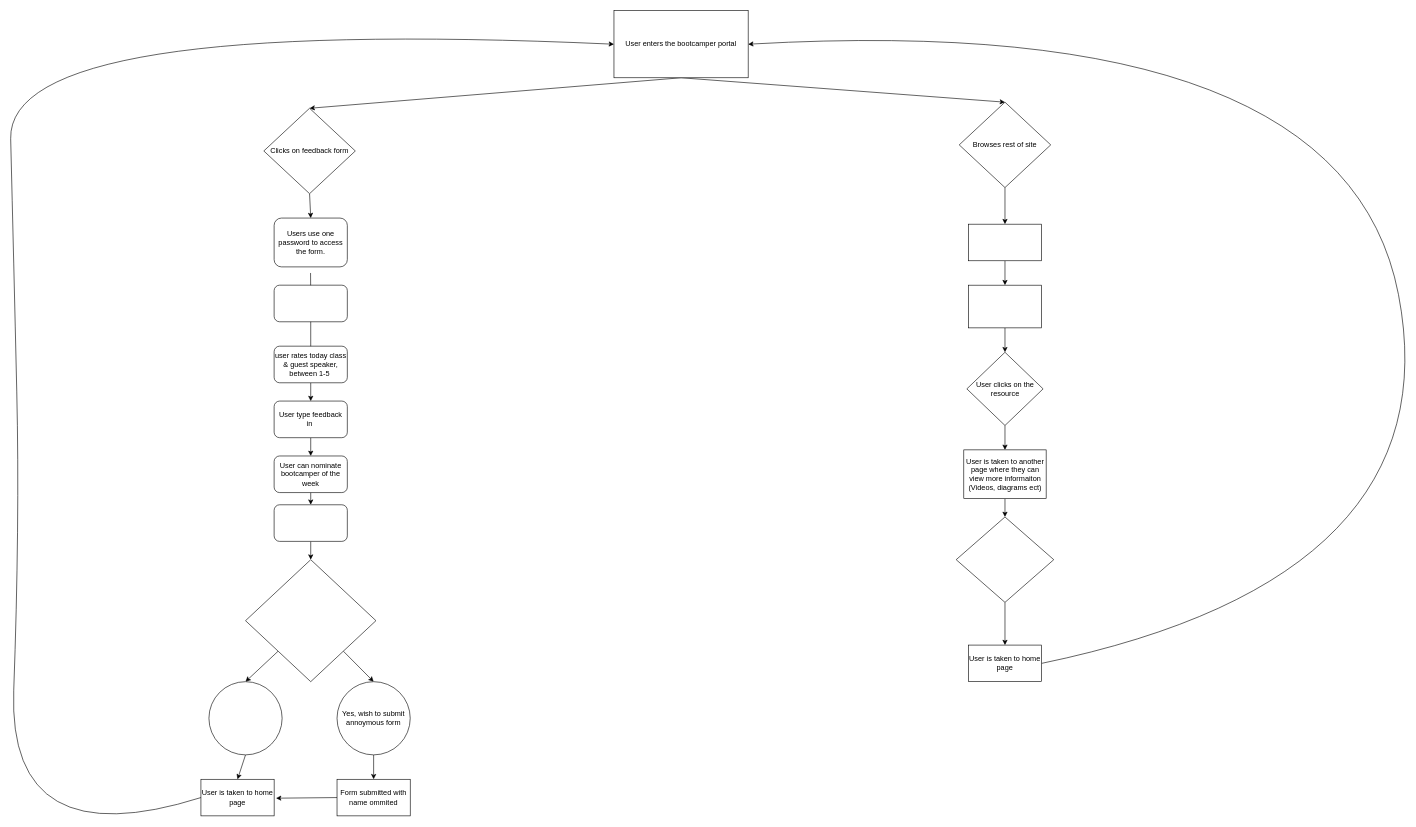
The diagram is 1416 pixels wide and 827 high, and some of its shapes have lost their labels. Here are the shapes that lost their labels. From the top down, the centre of each, then its label:
(x=1005, y=242): User can browse categories by scrolling
(x=310, y=303): User puts in full name & cohort group
(x=1005, y=306): User finds topic of interest, and can navigate options available
(x=310, y=522): users submits form
(x=1005, y=559): User clicks on home icon
(x=310, y=620): User is thanked, they have option to submit feedback anonymously
(x=245, y=718): No, does not wish to submit annoymous form
